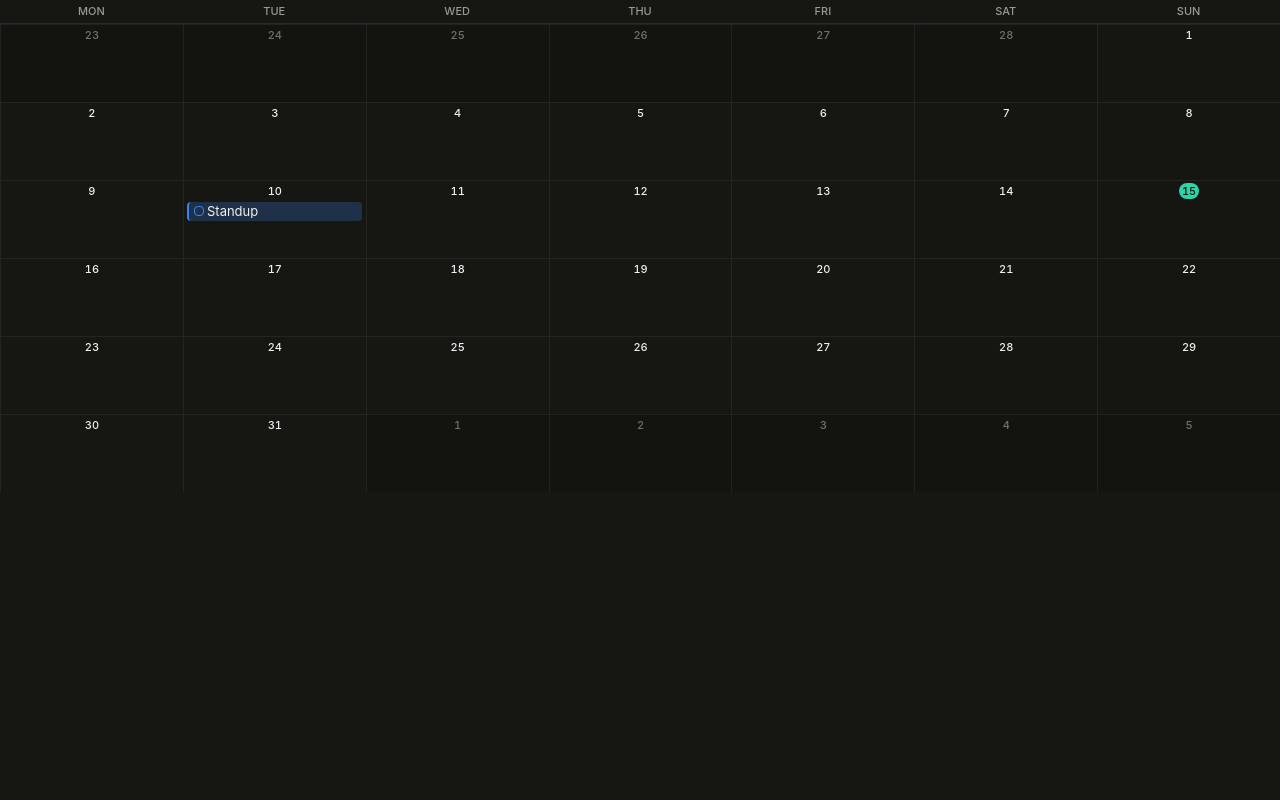
MonthGrid — event chips › opens the page popover on a single click of a chip
This screenshot has width=1280, height=800.
Step 1. Click the button with aria-label "Standup 9 AM" → {"x": 275, "y": 211}, box top-left (187, 202), bottom-right (362, 220)
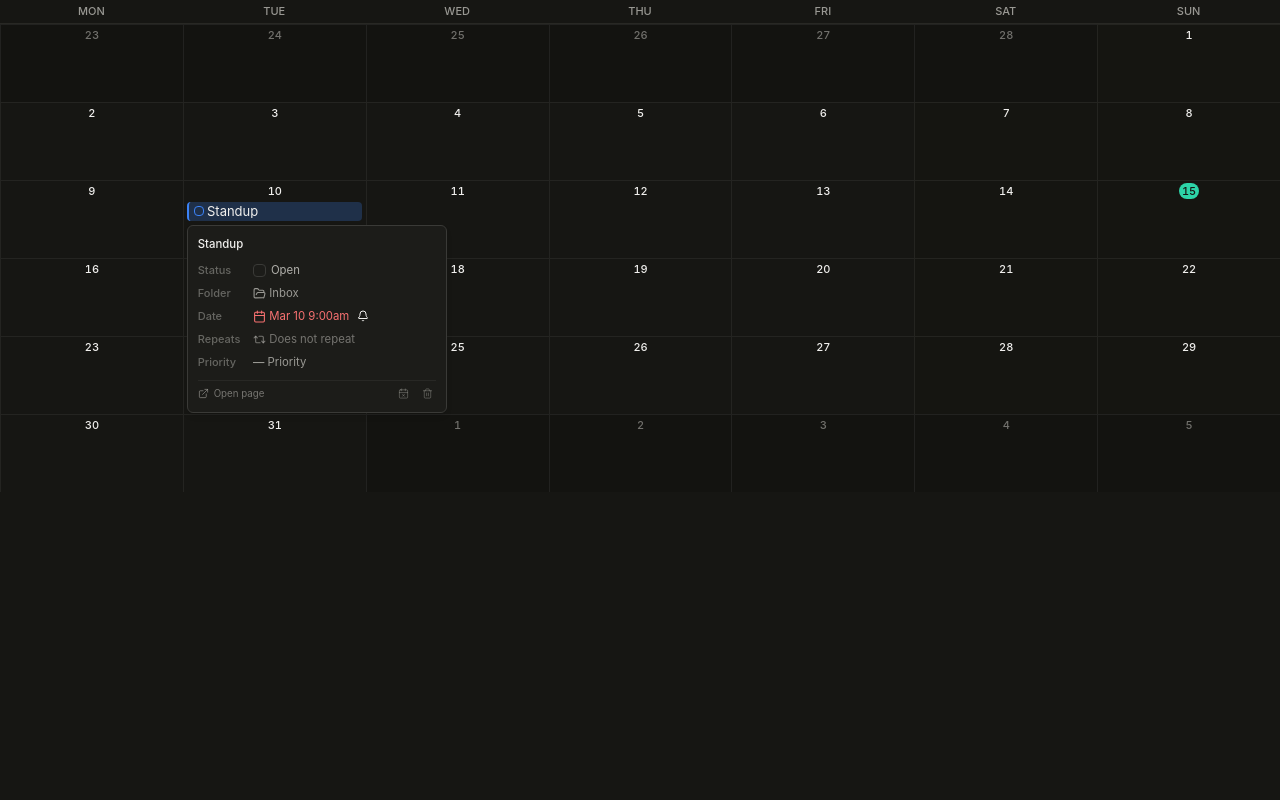
Result: the field with placeholder "Untitled" is shown at top-left (198, 236), bottom-right (436, 252)
